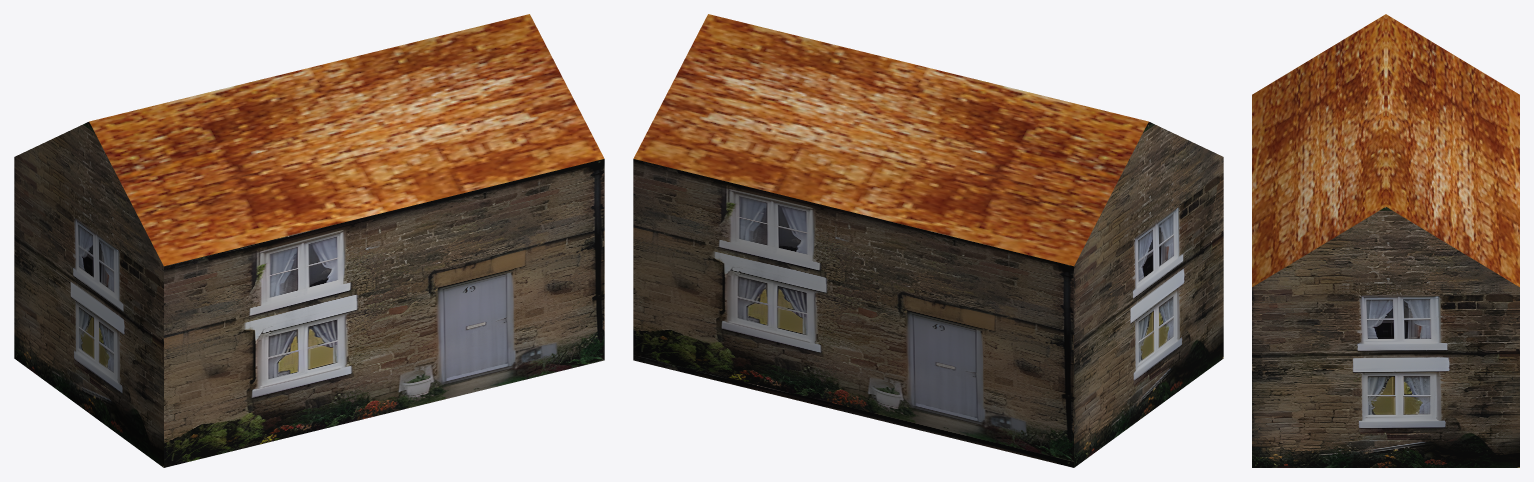
File: cottage.gltf
The picture shows the model from 3 angles, left to right: view 1: azimuth 30°, elevation 25°; view 2: azimuth 150°, elevation 25°; view 3: azimuth 270°, elevation 25°; orthographic projection. The views are drawn at different scales.
Visible parts, largest first — view 1: cottage_atomic0; view 2: cottage_atomic0; view 3: cottage_atomic0.
Boxes of the visible parts, x1=… form: cottage_atomic0: x1=14, y1=14, x2=604, y2=467; cottage_atomic0: x1=633, y1=14, x2=1223, y2=467; cottage_atomic0: x1=1252, y1=14, x2=1519, y2=467.
Size of the model in its own units: 23.55 by 14.9 by 13.84.
Materials: 3 (3 with a texture image).
